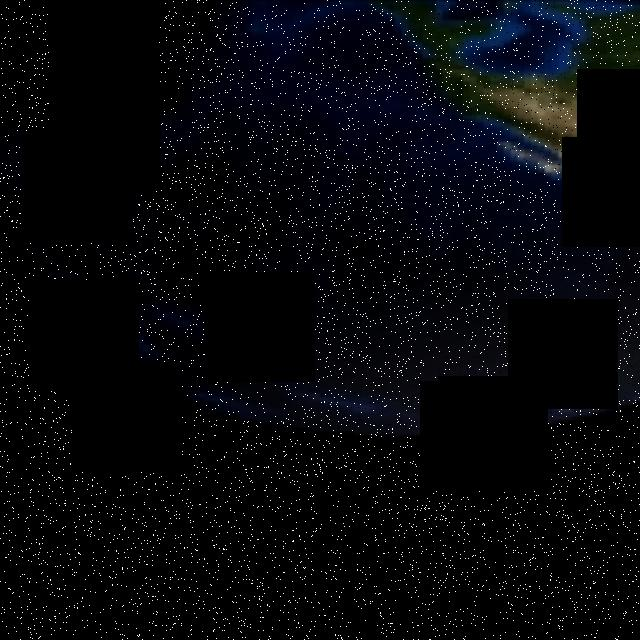Earth: (0, 0, 640, 435)
